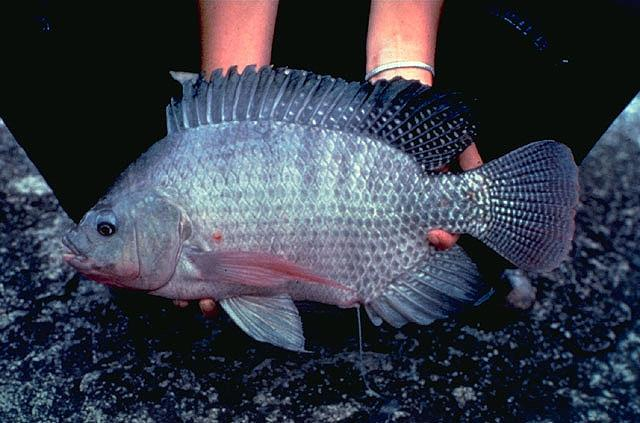Mulut: (44, 212, 102, 280)
Sirip Anal: (360, 234, 494, 340)
Sirip Dada: (177, 236, 351, 300)
Sirip Ekor: (473, 125, 591, 289)
Sirip Perut: (220, 286, 326, 362)
Sirip Punggung: (153, 56, 484, 180)
